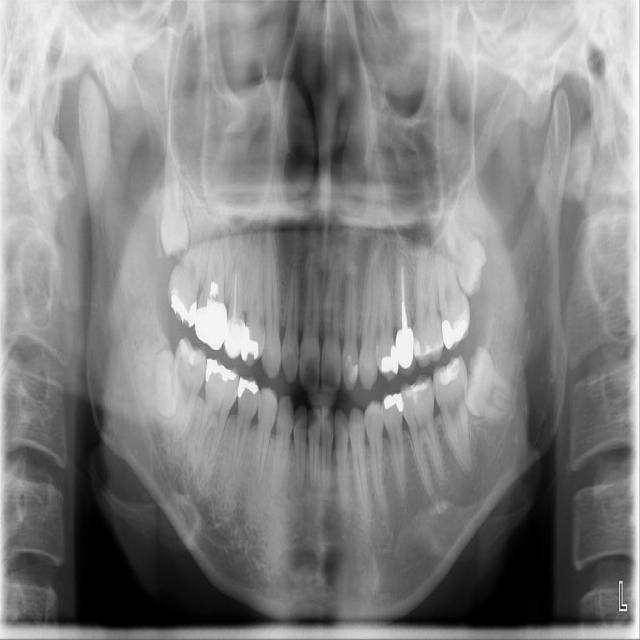3M ESPE Implant: (153, 137, 191, 260)
52: (416, 349, 480, 412), (387, 370, 448, 428), (164, 262, 202, 328), (410, 311, 448, 369), (205, 352, 240, 413), (440, 290, 471, 354), (195, 291, 228, 350), (238, 322, 268, 370), (235, 374, 263, 419), (375, 335, 400, 385), (378, 388, 407, 430), (394, 329, 418, 375), (225, 313, 246, 362), (340, 345, 360, 392)
73: (393, 239, 411, 336), (201, 237, 224, 300), (228, 252, 243, 322), (578, 579, 578, 597)
BioHorizons Implant: (432, 233, 474, 359)
BioLife Implant: (439, 198, 496, 302)
Biomet 3i Implant: (460, 345, 522, 423)
Blue Sky Bio Implant: (430, 351, 474, 475)
Caries: (164, 225, 210, 330)
Implant: (167, 331, 212, 446)
Keystone Dental Implant: (134, 351, 182, 422)
